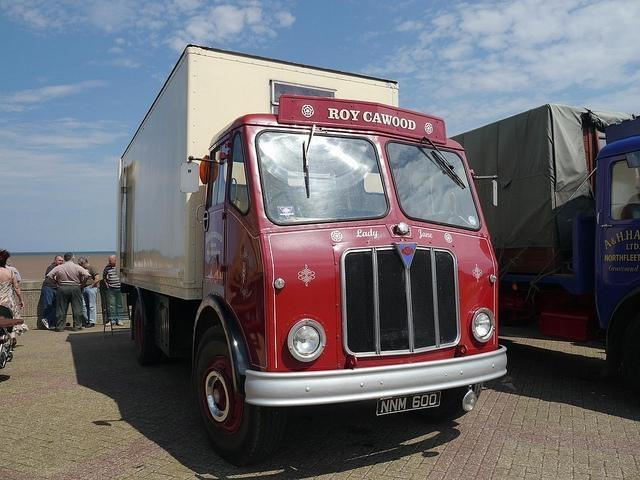truck: (118, 44, 510, 472), (456, 105, 640, 402)
